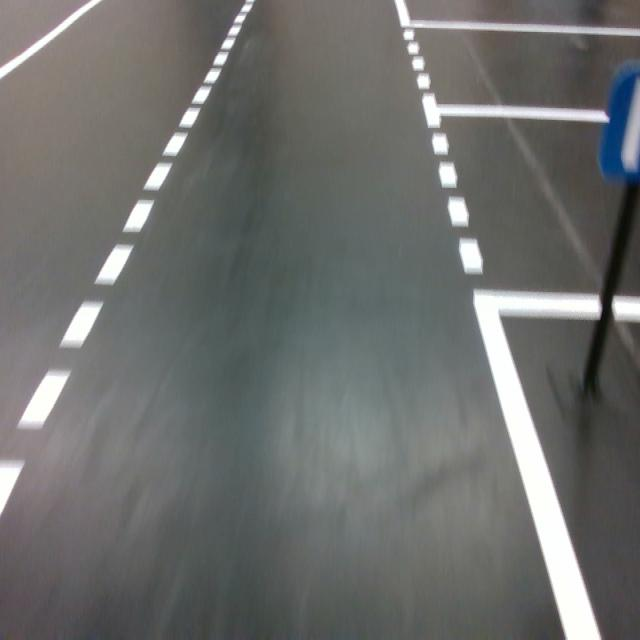parking-sign: (599, 70, 640, 182)
